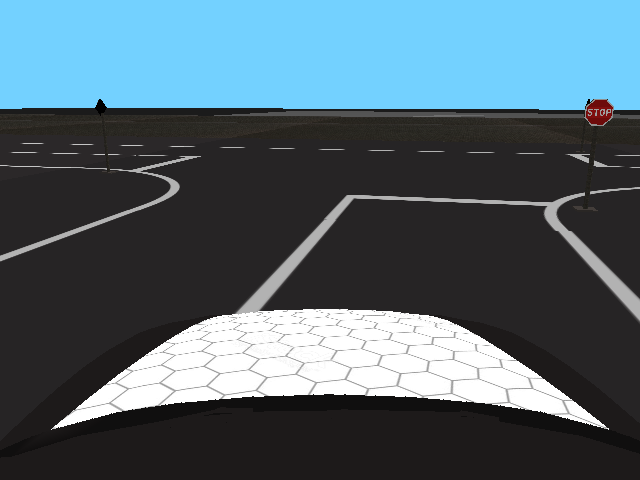stop: (584, 98, 614, 127)
